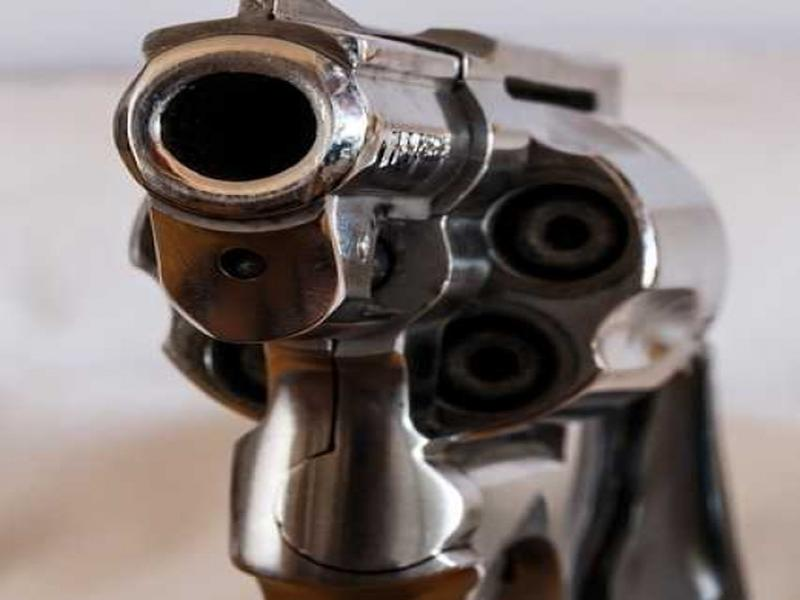Revolver: (86, 1, 754, 600)
